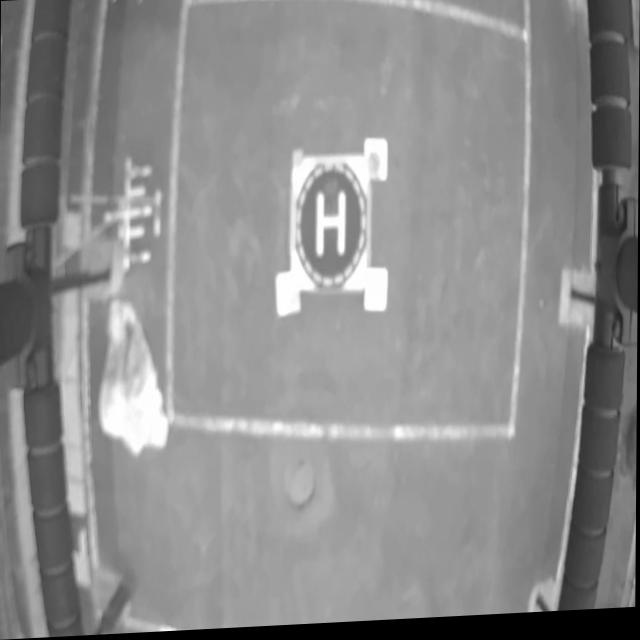Helipad: (314, 192, 346, 256)
